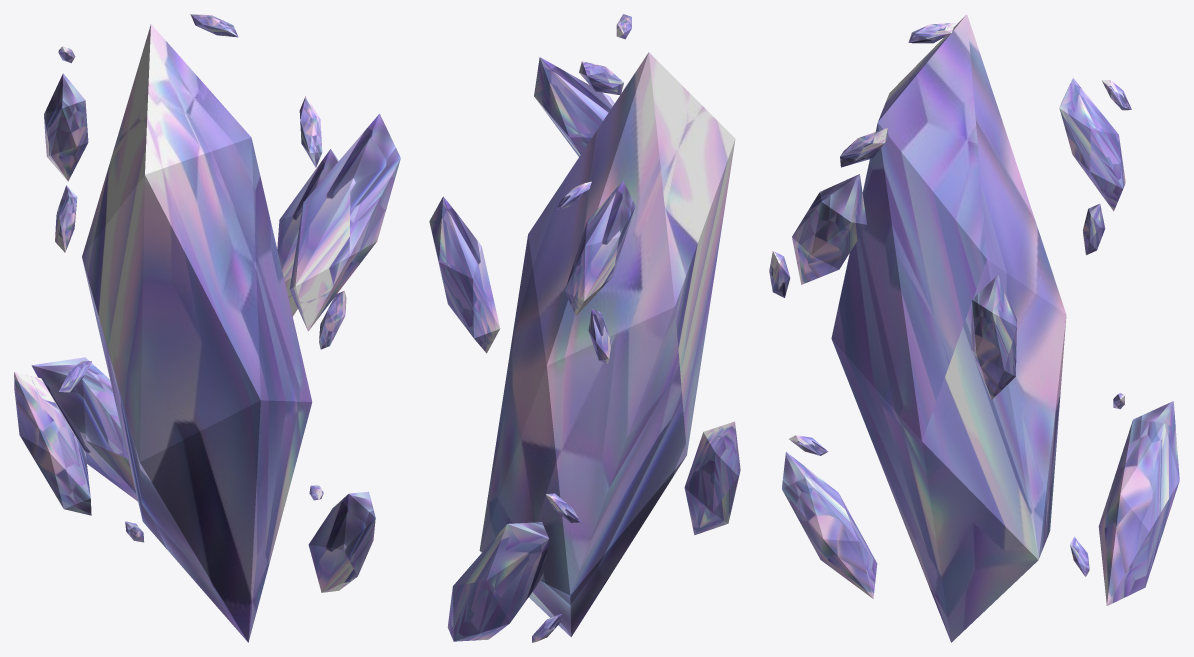
The model's file is Fragment.fbx.
The picture shows the model from 3 angles, left to right: view 1: azimuth 30°, elevation 25°; view 2: azimuth 150°, elevation 25°; view 3: azimuth 270°, elevation 25°; orthographic projection. The views are drawn at different scales.
Parts seen in each view (by area): view 1: pPlatonic1, pPlatonic5, pPlatonic3, pPlatonic15, pPlatonic4, pPlatonic2, pPlatonic14, pPlatonic12, pPlatonic6, pPlatonic11, pPlatonic13; view 2: pPlatonic1, pPlatonic3, pPlatonic14, pPlatonic15, pPlatonic2, pPlatonic5, pPlatonic12, pPlatonic6, pPlatonic8; view 3: pPlatonic1, pPlatonic3, pPlatonic4, pPlatonic5, pPlatonic2, pPlatonic14, pPlatonic12, pPlatonic6, pPlatonic11, pPlatonic13.
Boxes of the visible parts, box(x1,y1,x2,y2) form: pPlatonic1: box(82, 24, 312, 642); pPlatonic5: box(289, 113, 400, 331); pPlatonic3: box(31, 357, 137, 501); pPlatonic15: box(14, 371, 91, 515); pPlatonic4: box(308, 491, 375, 592); pPlatonic2: box(44, 73, 88, 181); pPlatonic14: box(277, 149, 338, 316); pPlatonic12: box(299, 96, 322, 167); pPlatonic6: box(55, 185, 77, 252); pPlatonic11: box(319, 291, 346, 349); pPlatonic13: box(190, 14, 238, 37); pPlatonic1: box(479, 52, 735, 636); pPlatonic3: box(447, 522, 549, 641); pPlatonic14: box(429, 196, 500, 353); pPlatonic15: box(684, 421, 740, 535); pPlatonic2: box(564, 180, 635, 315); pPlatonic5: box(534, 57, 614, 156); pPlatonic12: box(579, 61, 623, 94); pPlatonic6: box(588, 309, 611, 363); pPlatonic8: box(545, 493, 580, 522); pPlatonic1: box(831, 14, 1066, 642); pPlatonic3: box(1098, 401, 1179, 605); pPlatonic4: box(782, 452, 877, 598); pPlatonic5: box(792, 174, 867, 284); pPlatonic2: box(1059, 78, 1125, 211); pPlatonic14: box(971, 275, 1016, 399); pPlatonic12: box(840, 128, 888, 167); pPlatonic6: box(1083, 203, 1105, 255); pPlatonic11: box(769, 251, 790, 297); pPlatonic13: box(908, 23, 955, 43).
Size of the model in its own units: 3.47 by 6.53 by 4.06.
